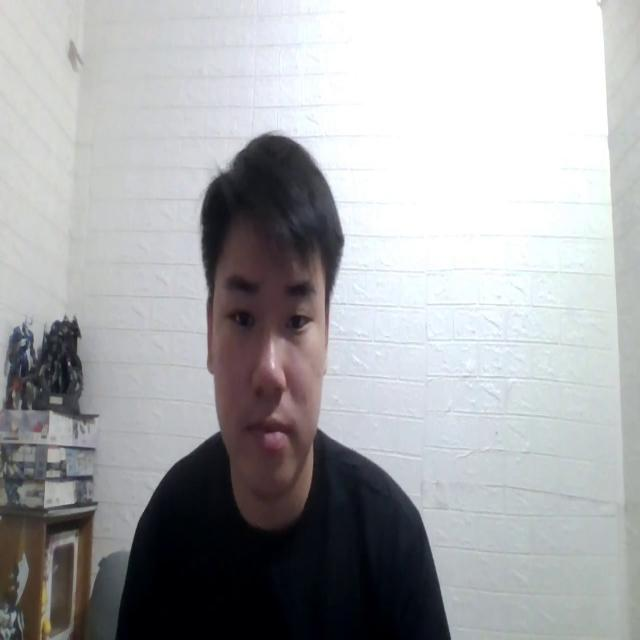student: (104, 129, 458, 640)
